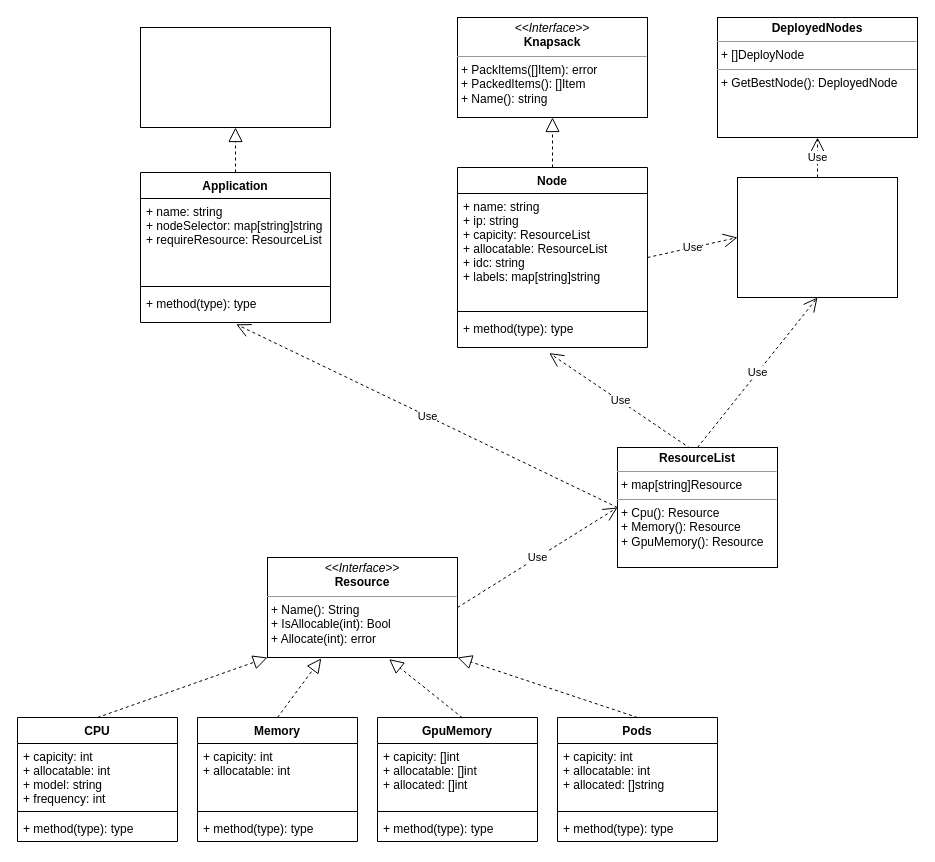
Image size: 935x862. Some labels were removed from this diagram. The centre of each missing label's shape, as x and y in pixels:
"<<Interface>> Item + Name(): string + Value(): int +" belongs at (235,77).
"DeployedNode + Node Node + Apps []Application + Remaining: ResourceList" belongs at (817,237).
